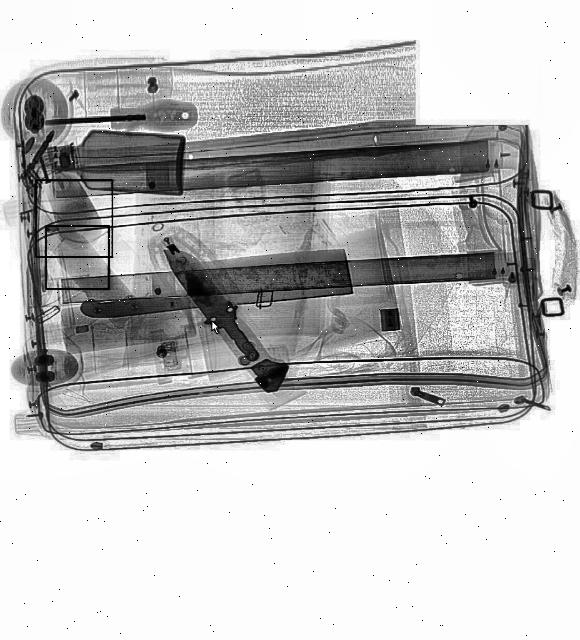Knife: (76, 248, 352, 322), (154, 234, 266, 370)
